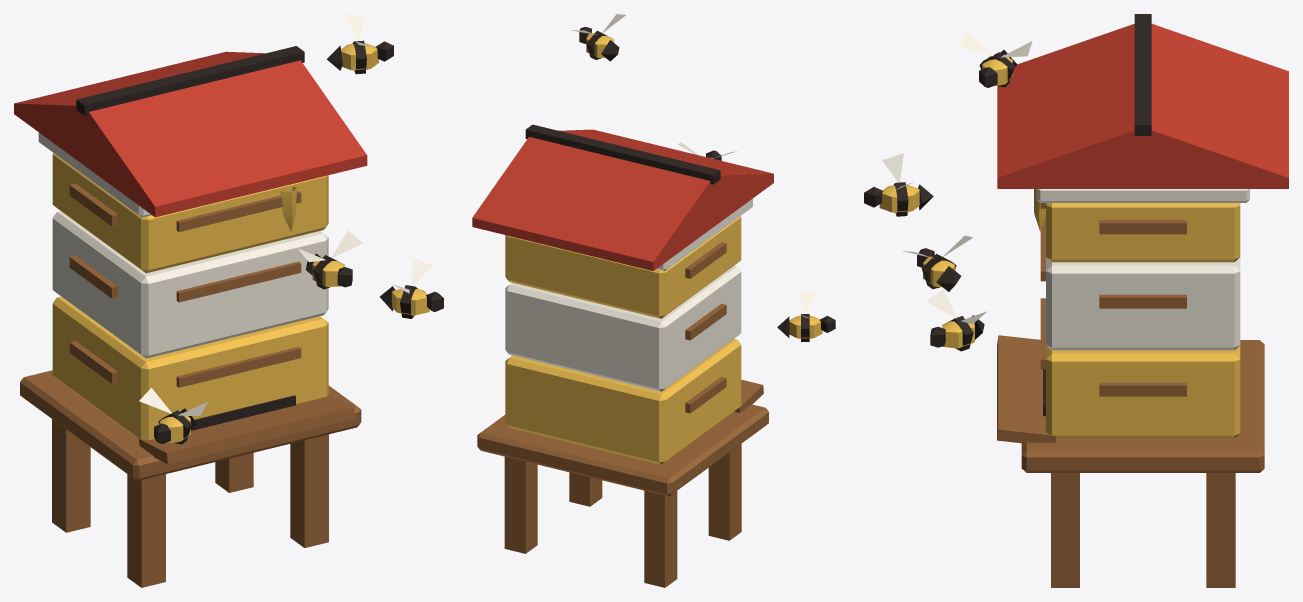
The model's file is beehive_box.glb.
3 renders of one model, left to right at view 1: azimuth 30°, elevation 25°; view 2: azimuth 150°, elevation 25°; view 3: azimuth 270°, elevation 25°, orthographic. The views are drawn at different scales.
Parts seen in each view (by area): view 1: beehive_box; view 2: beehive_box; view 3: beehive_box.
Part boxes in pixels (x1=…): beehive_box: x1=14, y1=14, x2=443, y2=587; beehive_box: x1=472, y1=14, x2=835, y2=587; beehive_box: x1=864, y1=14, x2=1288, y2=587.
Bounding box in the file's own units: 0.7392 × 1.25 × 0.8746.
